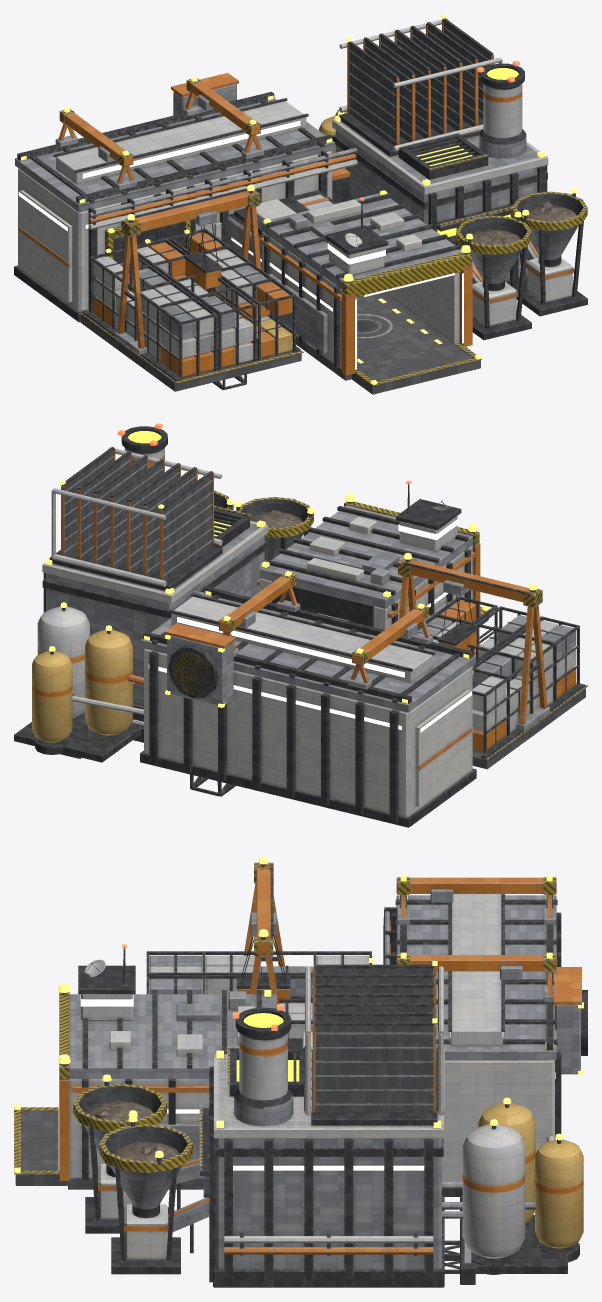
Rendered from factory.glb.
3 views of the same model, one above another, from view 1: azimuth 30°, elevation 25°; view 2: azimuth 150°, elevation 25°; view 3: azimuth 270°, elevation 25° (orthographic). The views are drawn at different scales.
Parts seen in each view (by area): view 1: factory_hull, factory_radiators, factory_lights, factory_furnace_glow; view 2: factory_hull, factory_radiators, factory_lights; view 3: factory_hull, factory_radiators, factory_lights, factory_furnace_glow.
Boxes of the visible parts, x1=… form: factory_hull: x1=14, y1=63, x2=587, y2=394; factory_radiators: x1=339, y1=18, x2=502, y2=156; factory_lights: x1=18, y1=14, x2=577, y2=384; factory_furnace_glow: x1=416, y1=68, x2=518, y2=236; factory_hull: x1=14, y1=426, x2=587, y2=827; factory_radiators: x1=49, y1=447, x2=222, y2=590; factory_lights: x1=45, y1=423, x2=537, y2=732; factory_hull: x1=14, y1=862, x2=587, y2=1287; factory_radiators: x1=304, y1=964, x2=444, y2=1125; factory_lights: x1=14, y1=856, x2=583, y2=1173; factory_furnace_glow: x1=236, y1=1013, x2=299, y2=1081.
Bounding box in the file's own units: 67.85 × 34.93 × 66.
5 materials, 1 textured.
